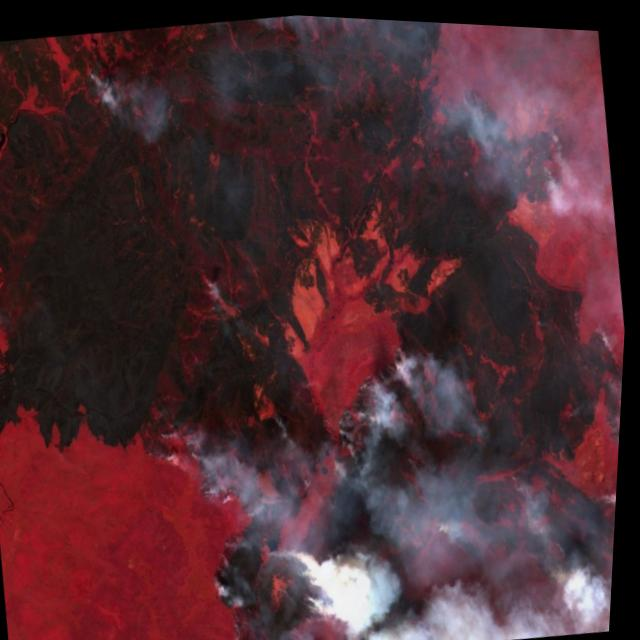fire: (327, 340, 428, 455), (209, 525, 276, 640), (154, 412, 216, 484), (199, 468, 258, 519), (535, 110, 572, 184), (85, 53, 124, 117), (501, 463, 544, 500), (201, 268, 226, 303), (270, 401, 290, 430)
